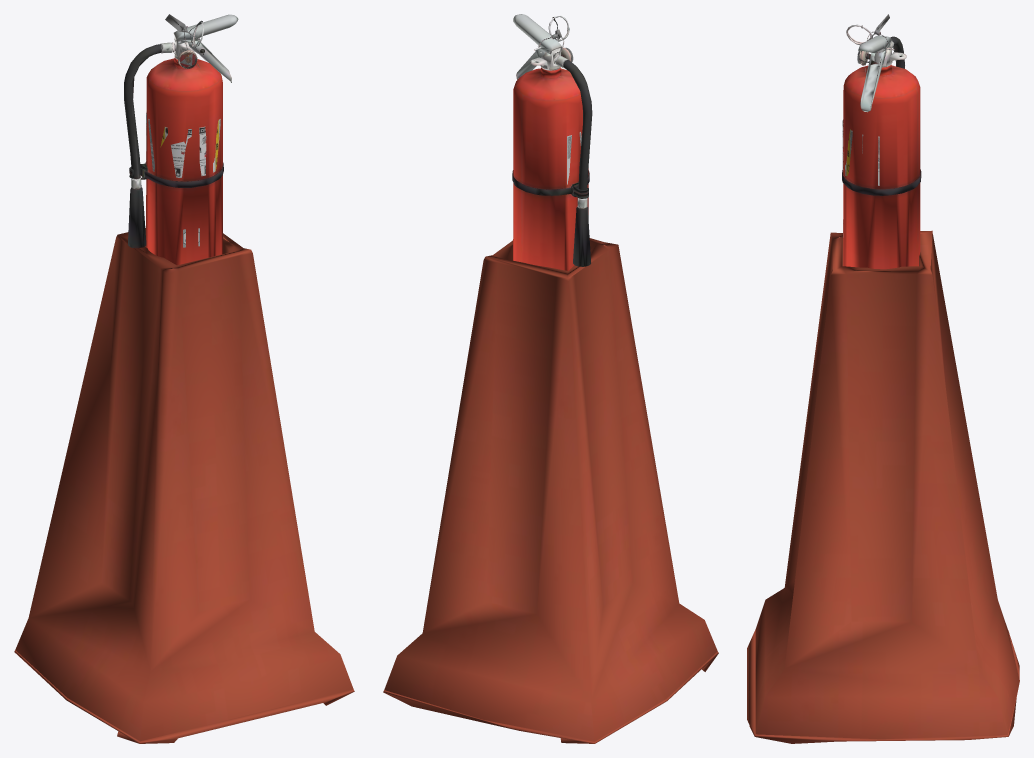
The model's file is extinguisher.glb.
The picture shows the model from 3 angles, left to right: view 1: azimuth 30°, elevation 25°; view 2: azimuth 150°, elevation 25°; view 3: azimuth 270°, elevation 25°; orthographic projection. The views are drawn at different scales.
Parts seen in each view (by area): view 1: body; view 2: body; view 3: body.
Boxes of the visible parts, x1,y1,x2,y2 form: body: (14,14,354,743); body: (383,14,718,743); body: (747,14,1019,743).
Size of the model in its own units: 0.4464 by 1.2 by 0.4447.
5 materials, 5 textured.
